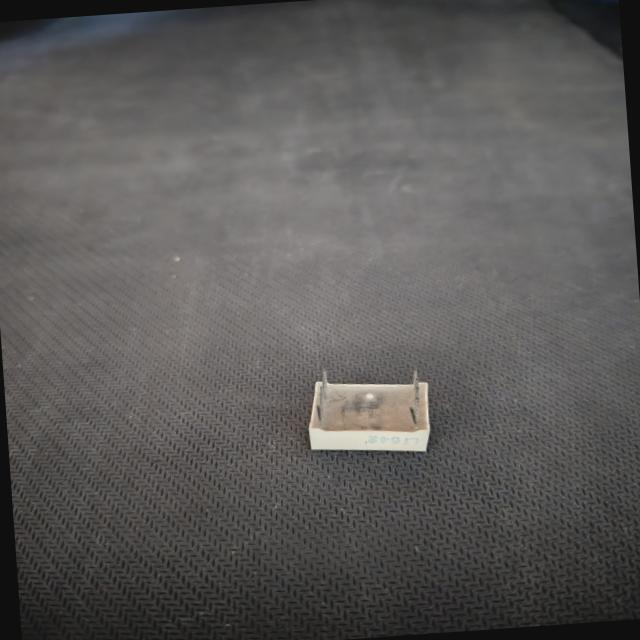sevensegment: (290, 352, 450, 472)
